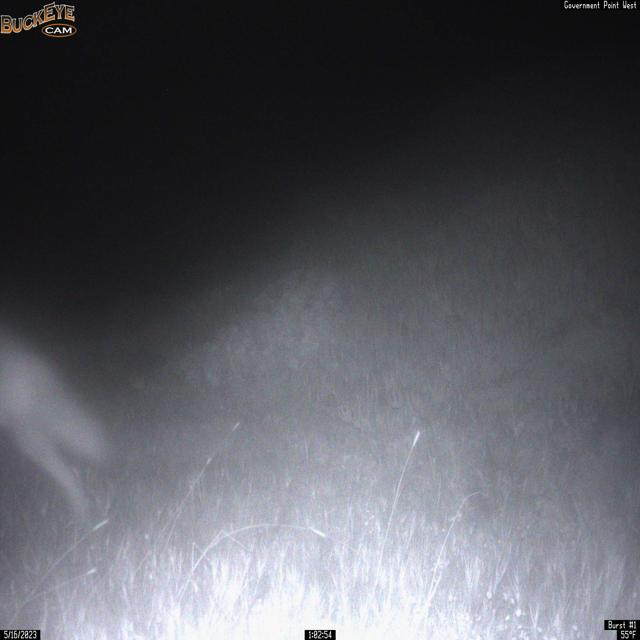coyote: (0, 322, 117, 525)
